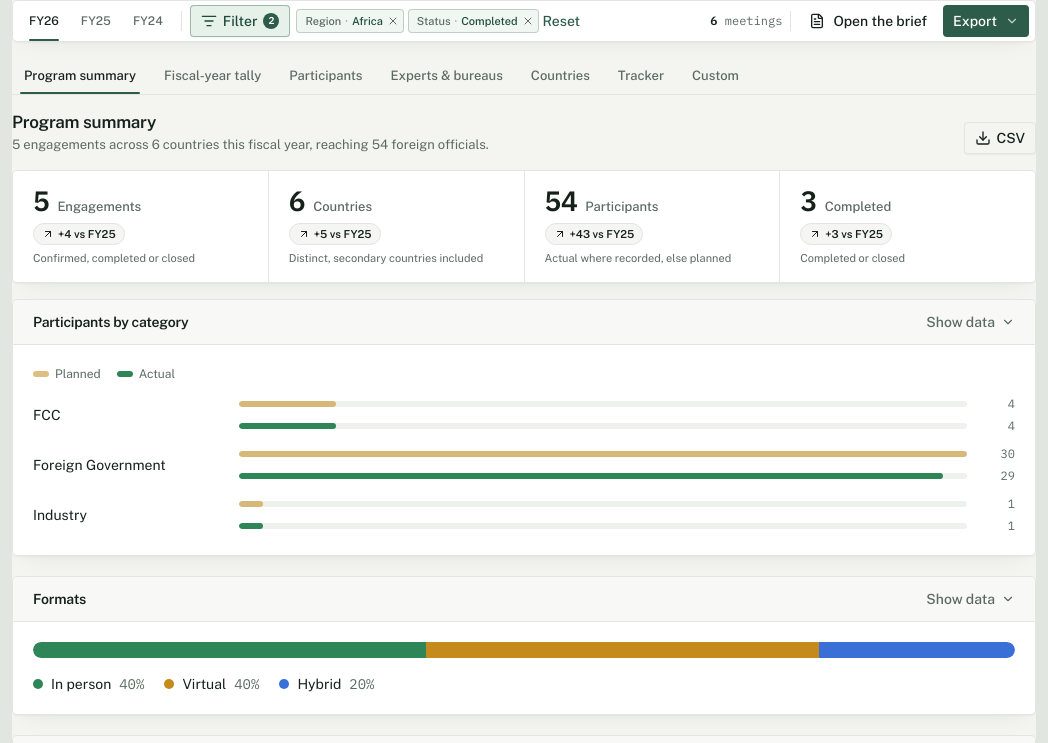
reports accessibility › the export menu, open, carries no WCAG violations
Click the button "Export" at (986, 21), box [943,5,1029,37]
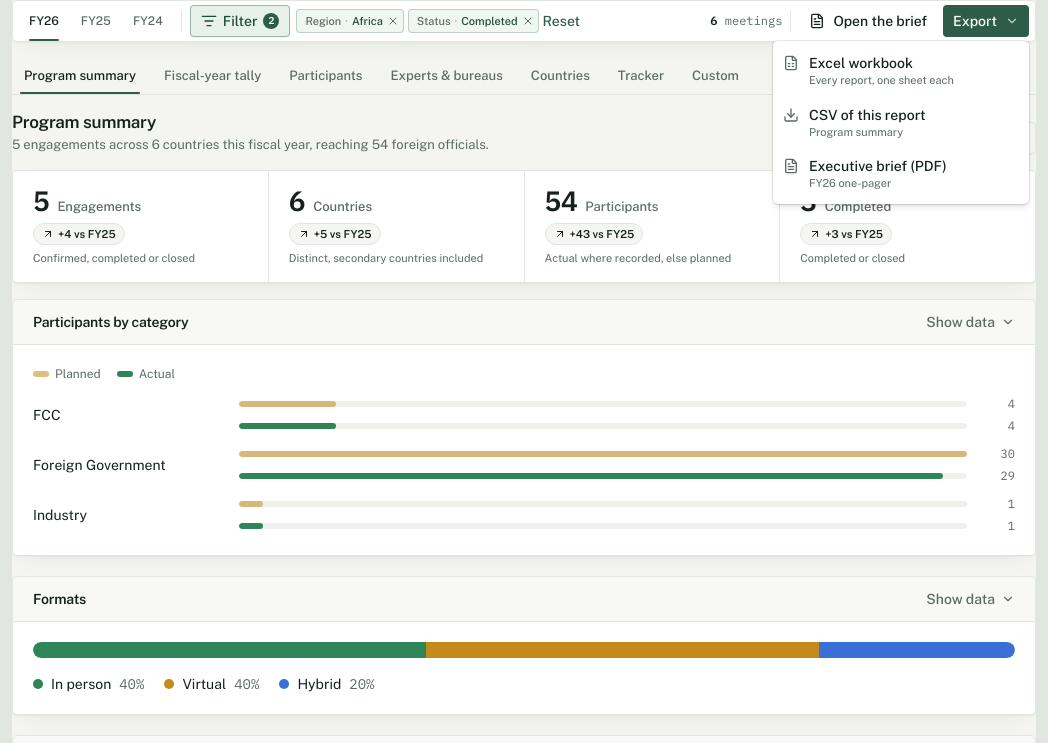
Check: the number of menu items is 3, box [783,55,954,86]; [783,107,926,138]; [783,158,947,189]
